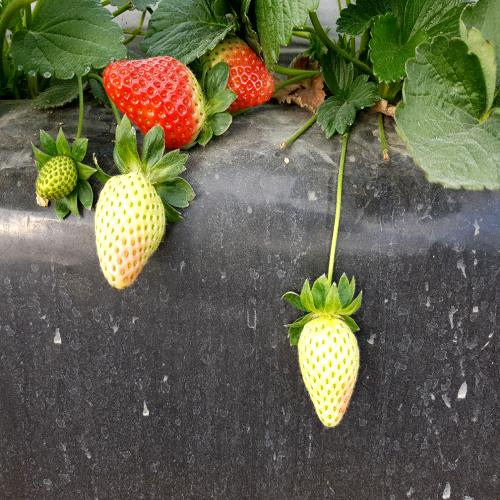partially-ripe: (104, 45, 206, 157)
unripe: (91, 162, 167, 297), (295, 310, 363, 438)
